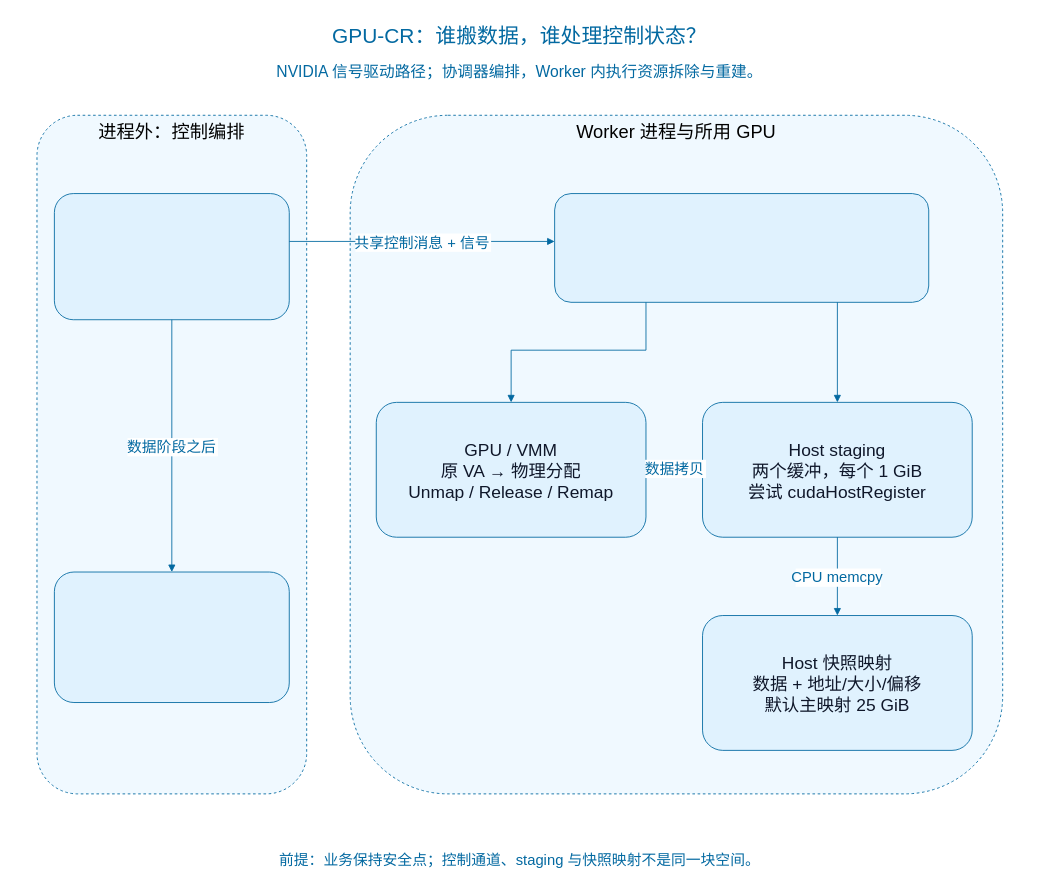
This 1039x891 diagram has some shape labels left out. The shapes that lost their labels are listed below. From the top down, each one's centre as x and y in pixels, then its label:
(x=171, y=256): 协调器 cr_client / multi_cr_client
(x=741, y=247): 注入 Runtime Hook / 账本 / IPC 管理
(x=171, y=637): 驱动 C/R 工具 cuda-checkpoint 管理剩余 CUDA 状态
